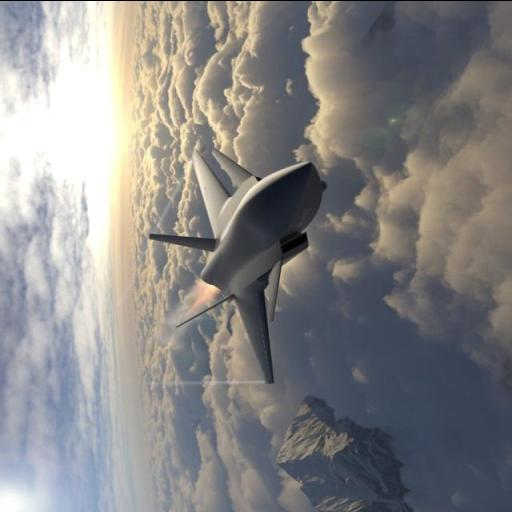uav: (146, 126, 336, 386)
